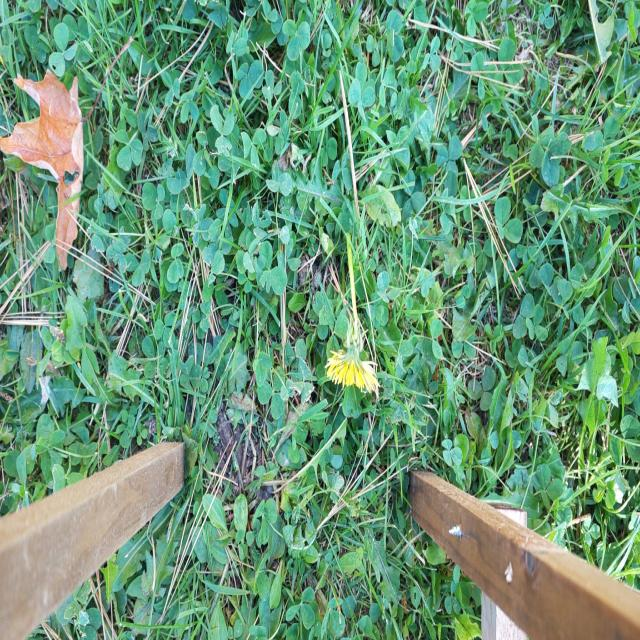base: (338, 221, 359, 260)
